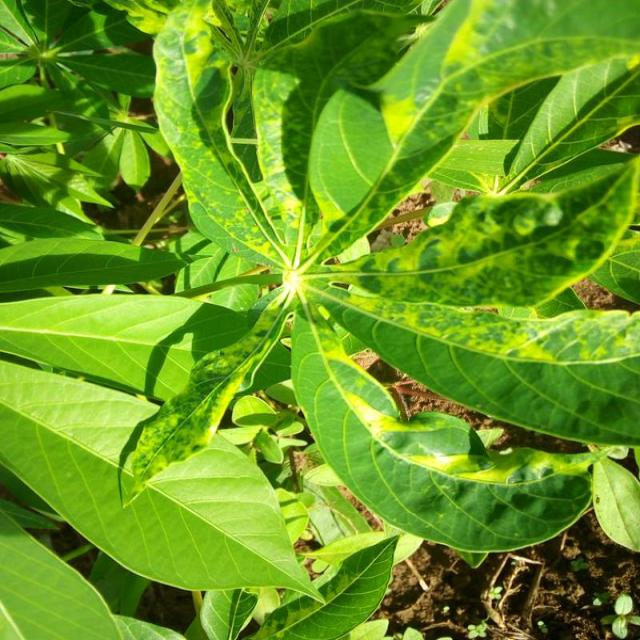cassava leaf: (1, 0, 638, 635), (0, 355, 325, 604)
